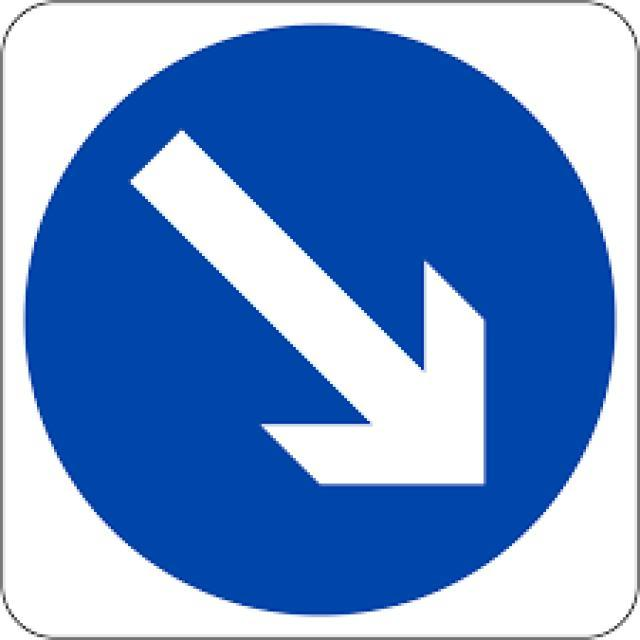compulsary keep right: (23, 22, 620, 617)
